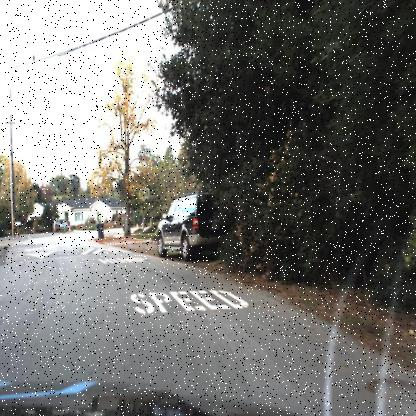car: (153, 188, 236, 265), (52, 212, 70, 236)
